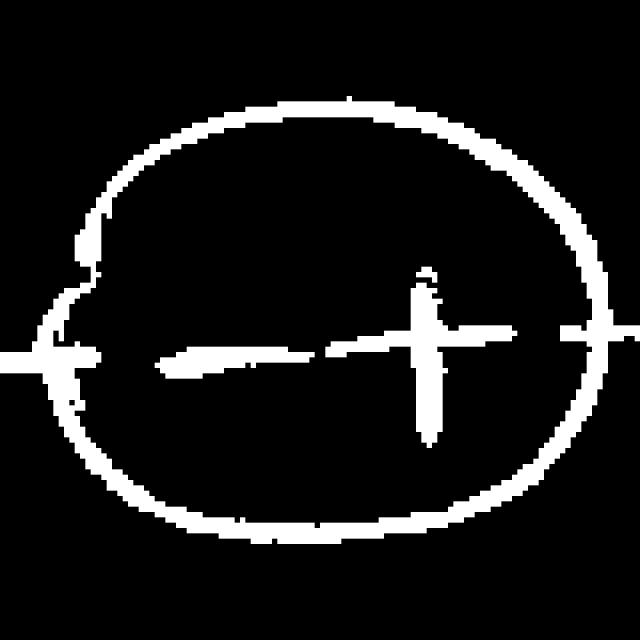voltage_source: (24, 88, 620, 550)
